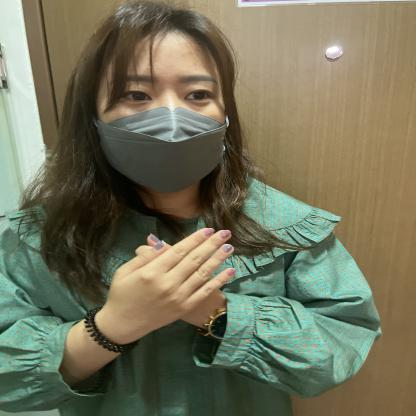Grieve: (44, 206, 368, 360)
